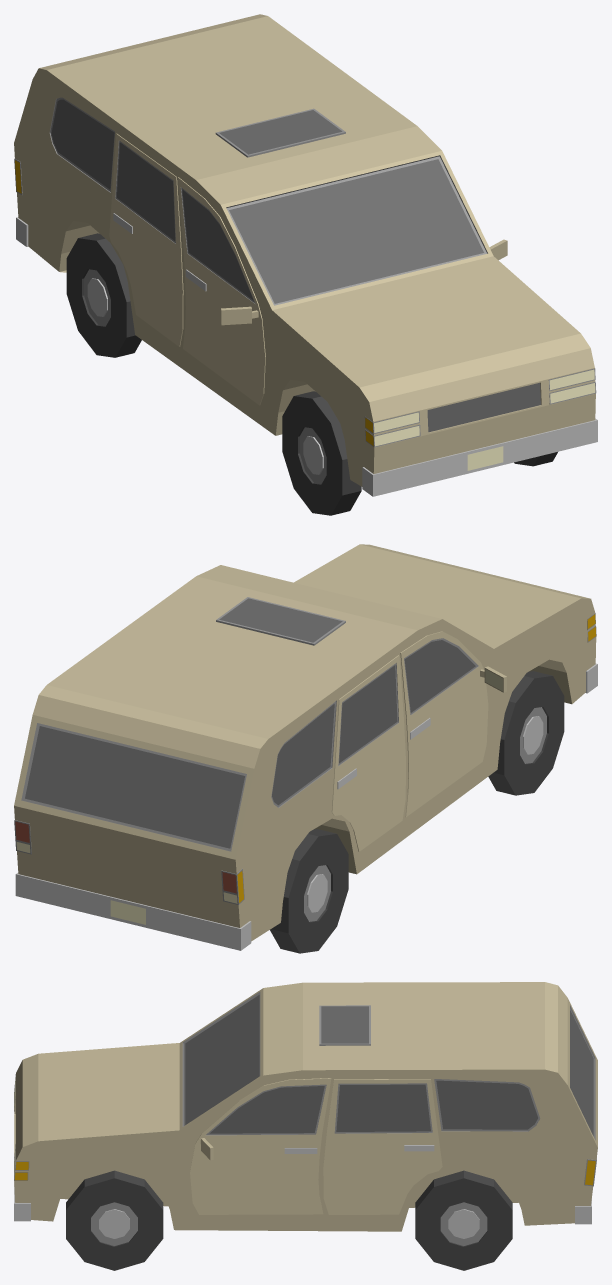
File: SUV_2.fbx
The picture shows the model from 3 angles, top to bottom: view 1: azimuth 30°, elevation 25°; view 2: azimuth 150°, elevation 25°; view 3: azimuth 270°, elevation 25°; orthographic projection. The views are drawn at different scales.
Parts seen in each view (by area): view 1: fg, Cylinder_2_3, Cylinder_2_1; view 2: fg, Cylinder_2_1, Cylinder_2_3; view 3: fg, Cylinder_2, Cylinder_2_2.
Part boxes in pixels (<box>): fg: <box>14,14,597,496</box>; Cylinder_2_3: <box>282,391,361,515</box>; Cylinder_2_1: <box>66,233,141,357</box>; fg: <box>14,544,597,950</box>; Cylinder_2_1: <box>270,829,348,953</box>; Cylinder_2_3: <box>488,671,564,795</box>; fg: <box>14,982,597,1231</box>; Cylinder_2: <box>415,1170,512,1270</box>; Cylinder_2_2: <box>66,1170,163,1270</box>.
Size of the model in its own units: 169 by 141 by 369.
